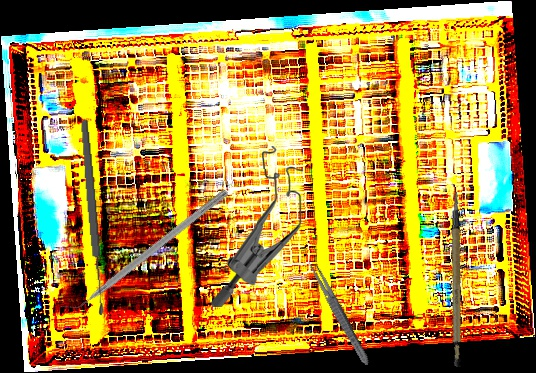Chopper: (58, 179, 230, 320)
Dressing Forceps: (305, 258, 373, 368)
Scalpel Handle: (430, 191, 487, 368)
Speculum: (206, 145, 308, 308)
Surgical Spoon: (78, 118, 107, 317)
